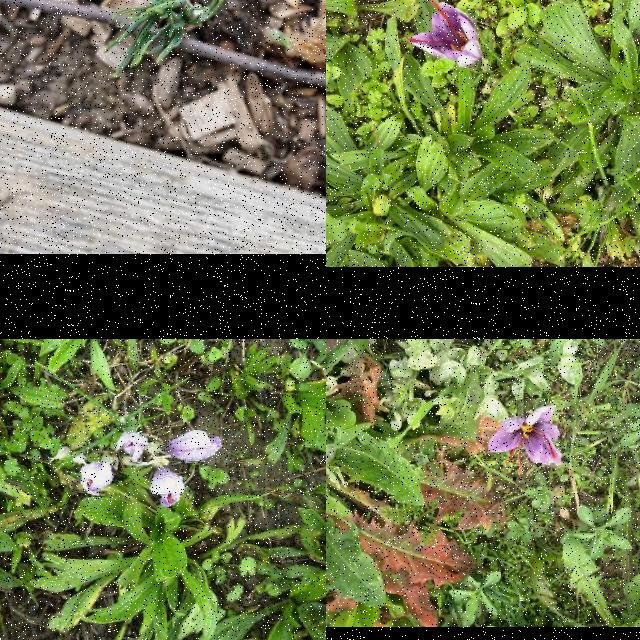flower: (405, 0, 483, 67), (489, 406, 563, 474), (166, 430, 224, 462), (151, 471, 185, 507), (81, 462, 113, 498), (116, 432, 150, 462)
